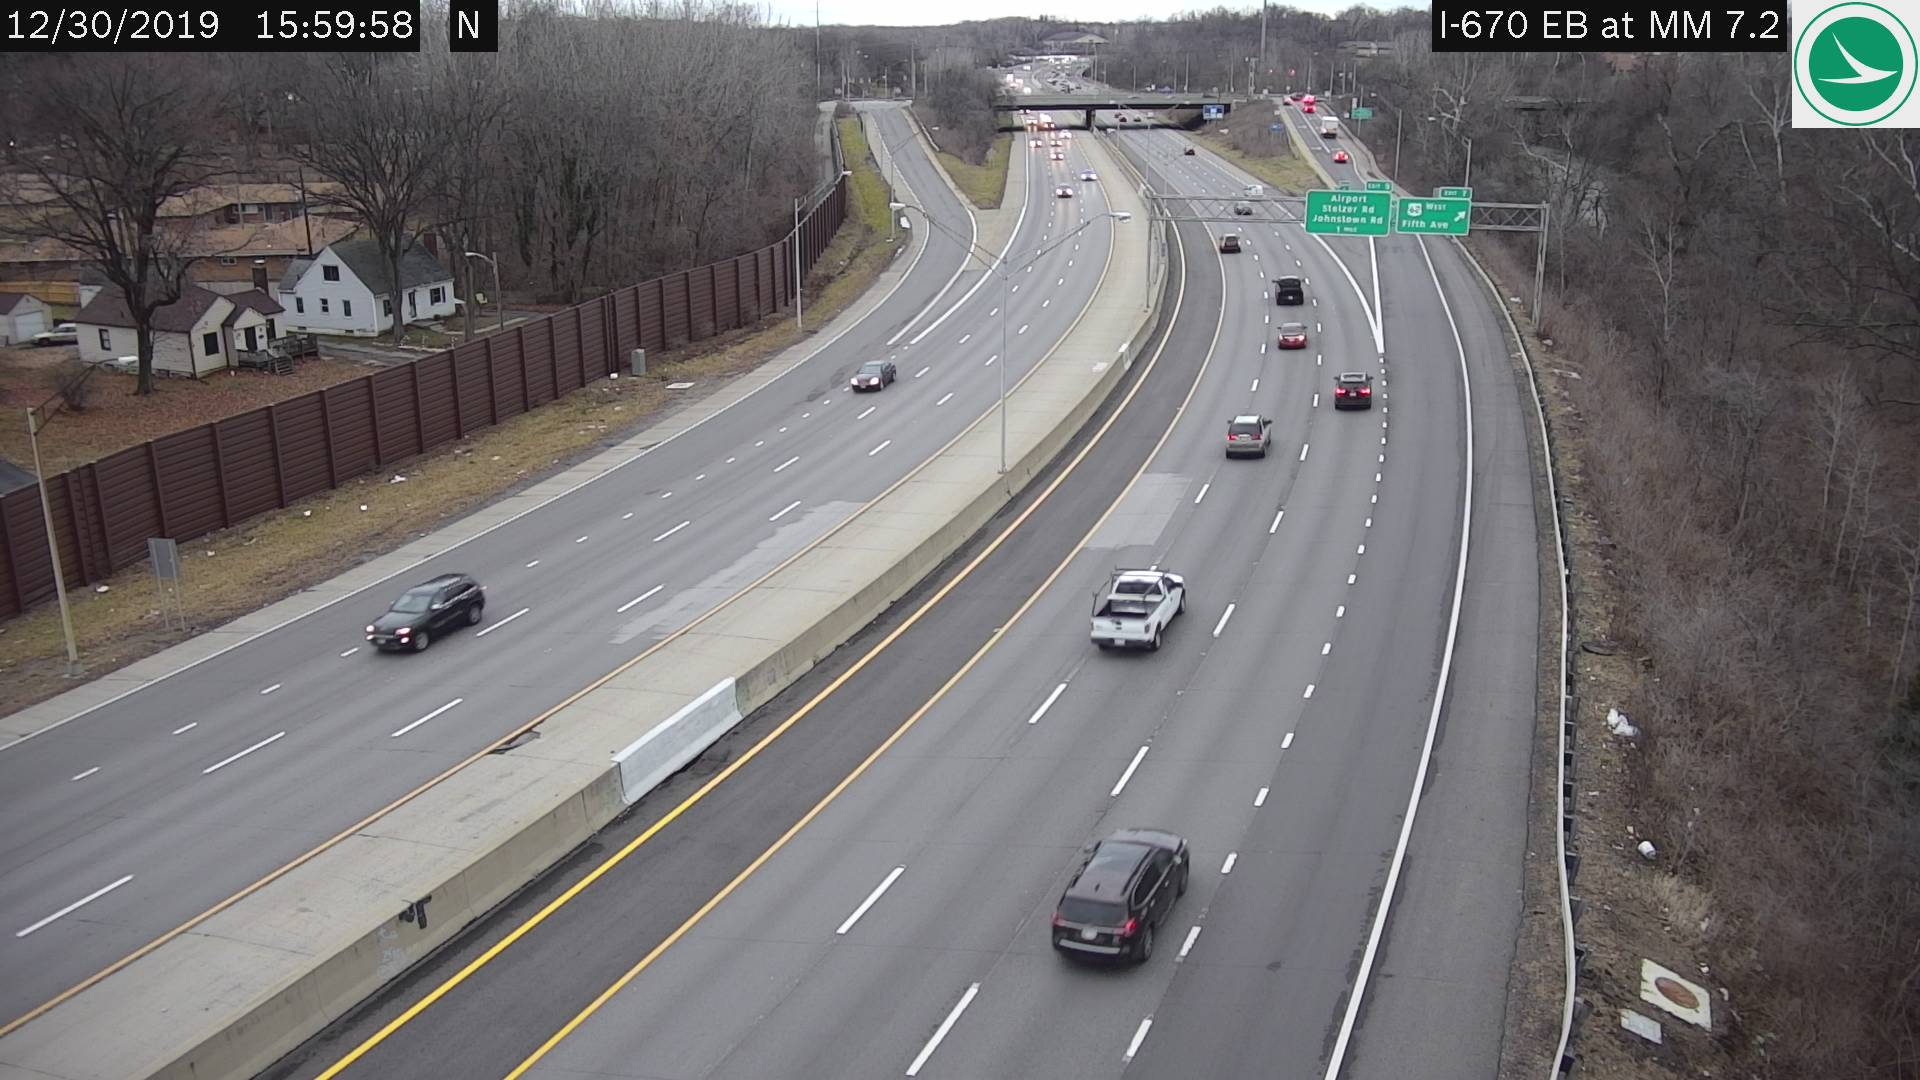car: (1050, 832, 1185, 972), (367, 572, 487, 655), (1095, 568, 1185, 655), (1226, 411, 1270, 456), (851, 360, 895, 392), (1335, 372, 1370, 407), (1276, 276, 1303, 306), (1276, 320, 1307, 345), (1218, 233, 1238, 253), (1321, 115, 1338, 137), (1232, 200, 1254, 214), (1081, 166, 1098, 179), (1056, 182, 1072, 195), (1332, 152, 1350, 162), (1244, 185, 1261, 195)
